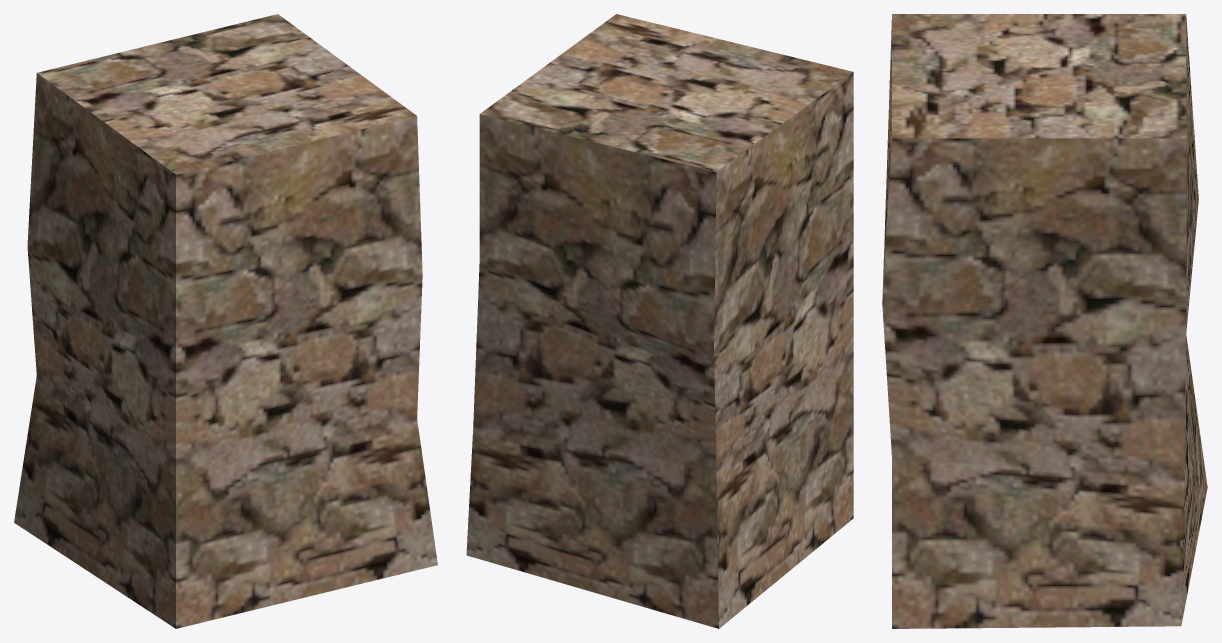
The model's file is Urban_DrystoneColumn_Model.fbx.
3 views of the same model, side by side, from view 1: azimuth 30°, elevation 25°; view 2: azimuth 150°, elevation 25°; view 3: azimuth 270°, elevation 25° (orthographic). The views are drawn at different scales.
Parts seen in each view (by area): view 1: Urban_DrystoneColumn_Mesh; view 2: Urban_DrystoneColumn_Mesh; view 3: Urban_DrystoneColumn_Mesh.
Part boxes in pixels (x1=…): Urban_DrystoneColumn_Mesh: x1=14, y1=14, x2=437, y2=628; Urban_DrystoneColumn_Mesh: x1=466, y1=14, x2=853, y2=628; Urban_DrystoneColumn_Mesh: x1=882, y1=14, x2=1207, y2=628.
Size of the model in its own units: 0.5691 by 0.9 by 0.5529.
